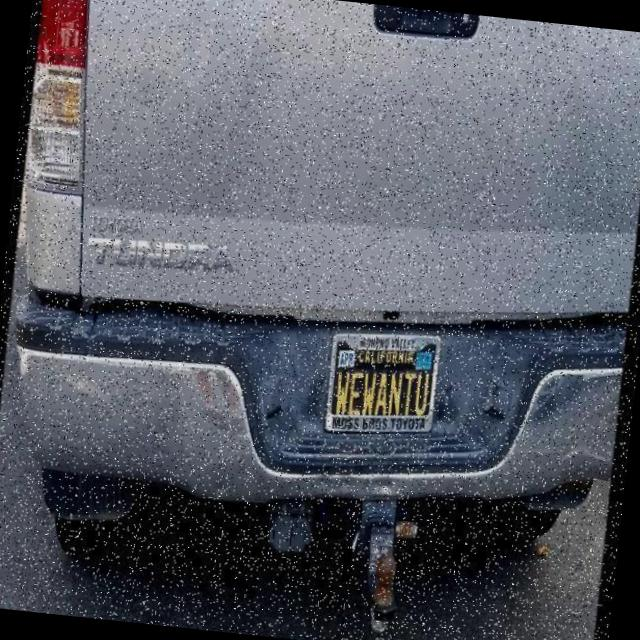LicensePlate: (324, 322, 442, 448)
